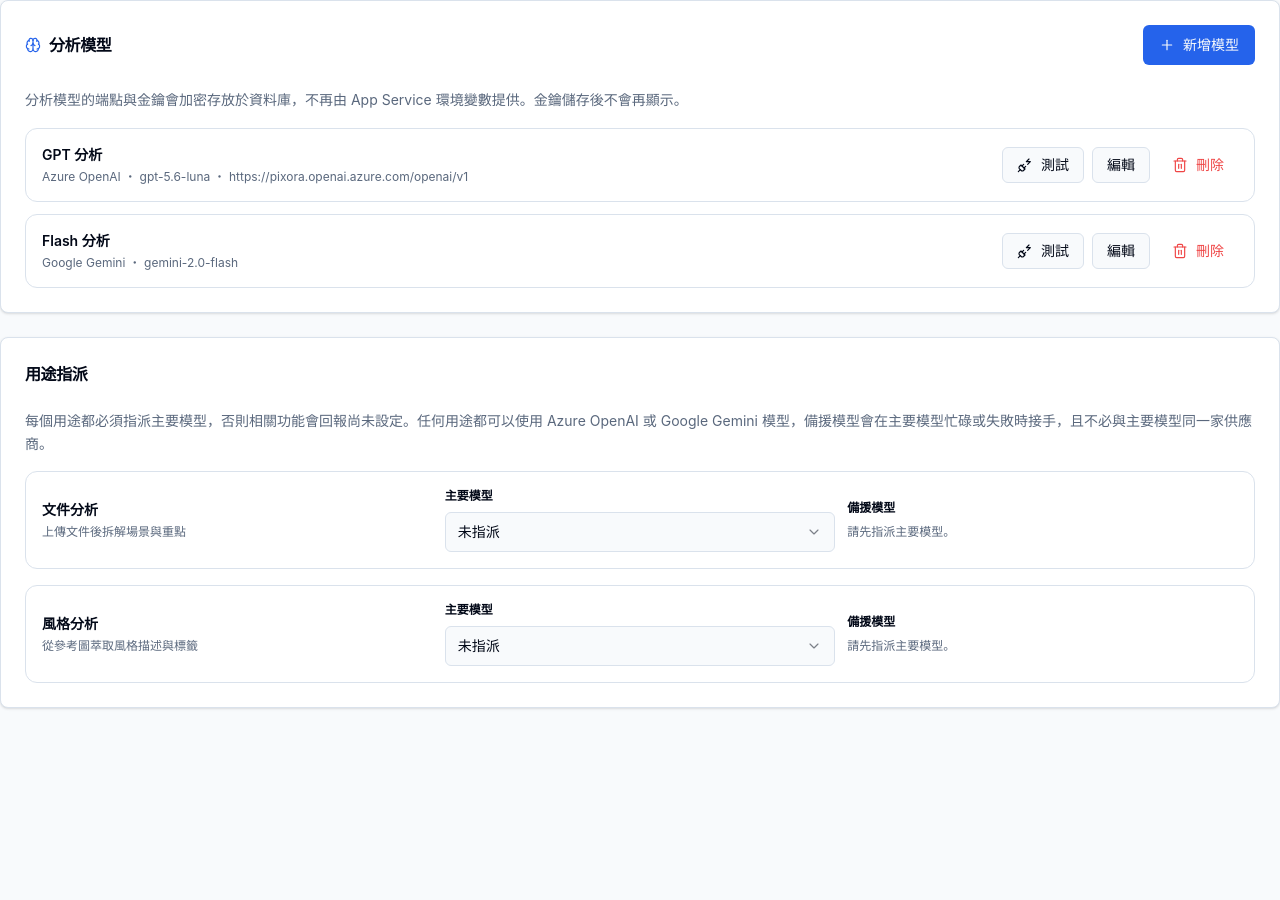
Test case: LlmModelSettings › saves a role assignment
The width and height of the screenshot is (1280, 900).
Expected: the text "GPT 分析" is shown, [42,146,102,163]
Click the dropdown named "文件分析主要模型" at (479, 532), box [445,512,835,552]
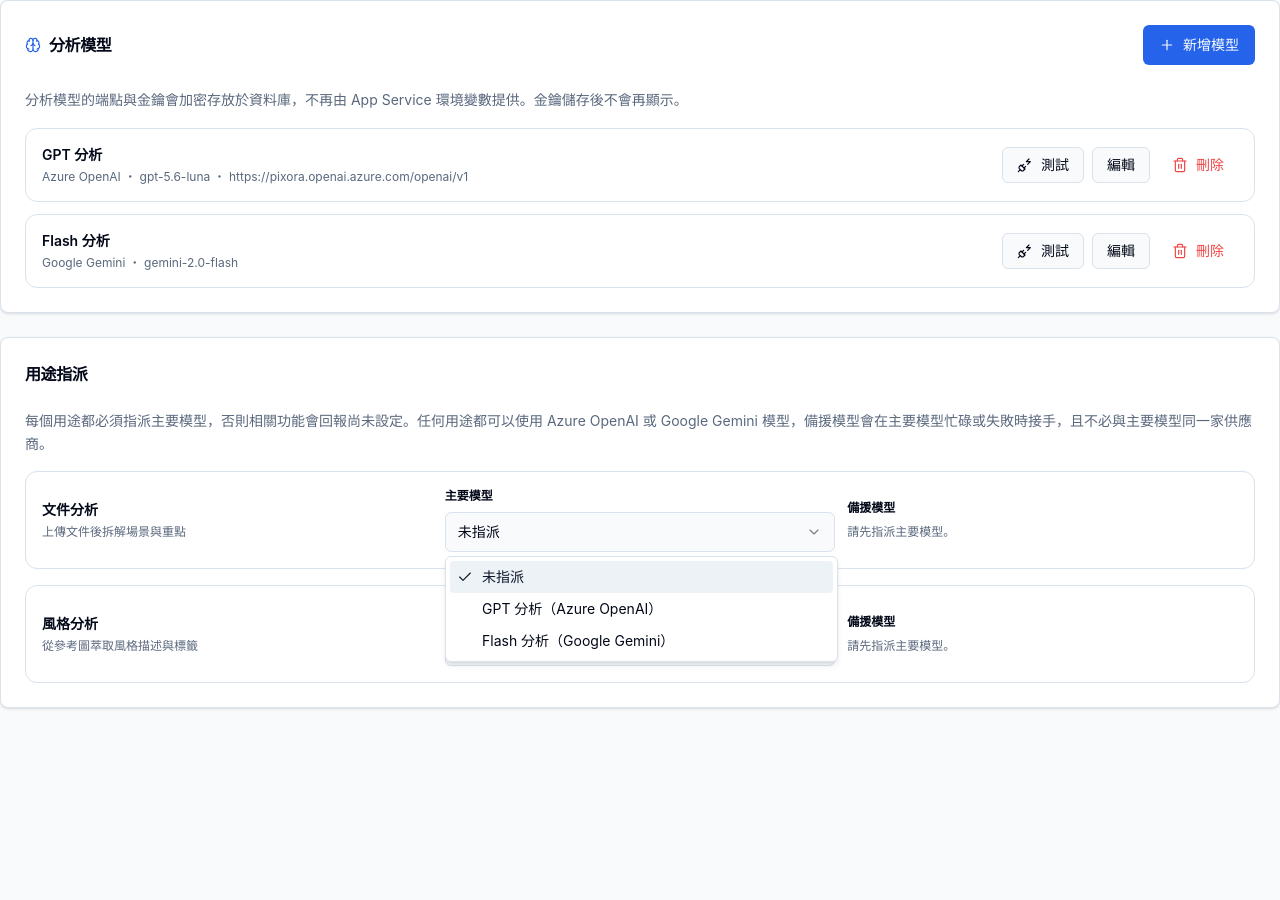
Click the option "GPT 分析（Azure OpenAI）" at (572, 608), box [482,600,662,617]
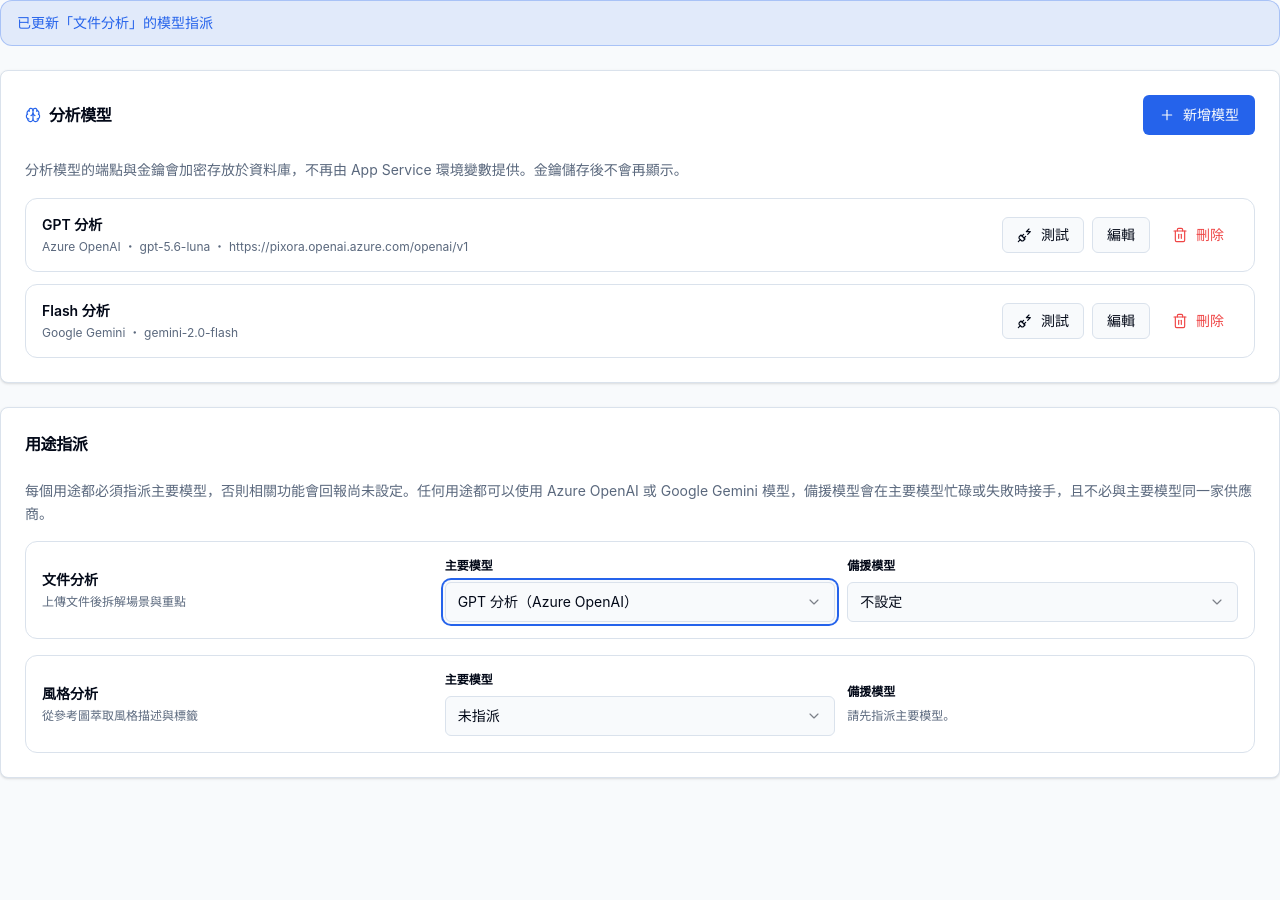
Now the message shows "文件分析", box [17,14,213,31]
